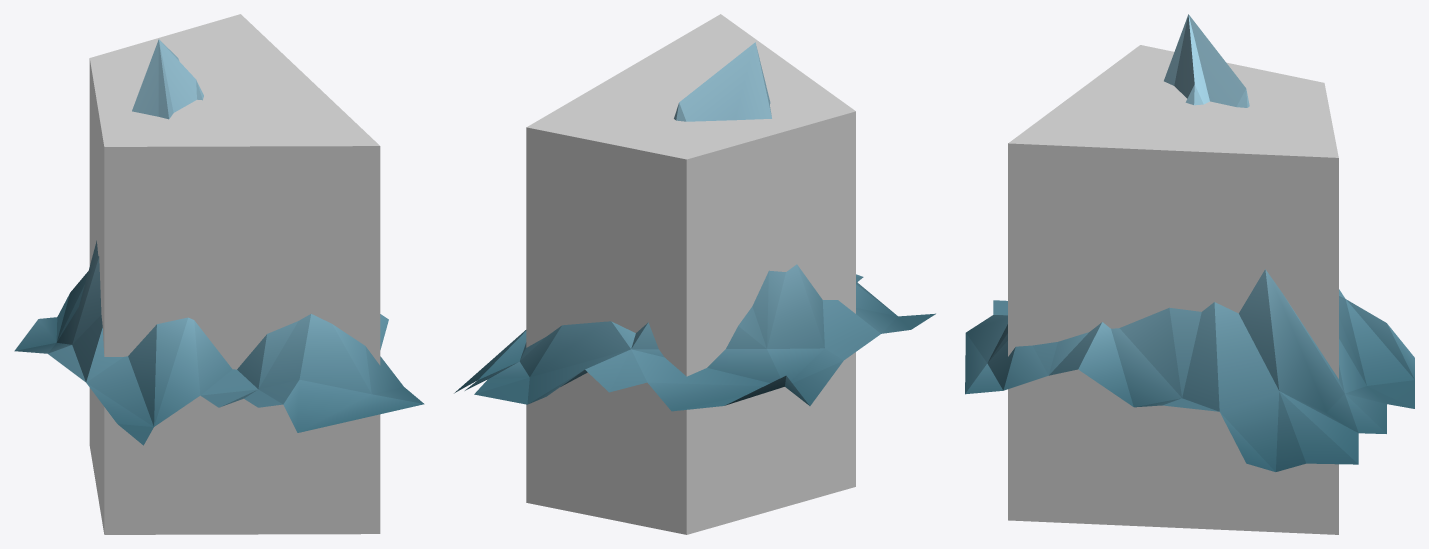
Rendered from island_small_ice_Collection_10.fbx.
The picture shows the model from 3 angles, left to right: view 1: azimuth 30°, elevation 25°; view 2: azimuth 150°, elevation 25°; view 3: azimuth 270°, elevation 25°; orthographic projection. The views are drawn at different scales.
Parts seen in each view (by area): view 1: islandRock_10_col, islandRock_10; view 2: islandRock_10_col, islandRock_10; view 3: islandRock_10_col, islandRock_10.
Part boxes in pixels (box(x1,y1,x2,y2)): islandRock_10_col: box(89, 14, 380, 534); islandRock_10: box(14, 39, 424, 445); islandRock_10_col: box(526, 14, 855, 534); islandRock_10: box(454, 42, 935, 411); islandRock_10_col: box(1008, 45, 1338, 534); islandRock_10: box(965, 14, 1414, 471).
Size of the model in its own units: 2038 by 2739 by 2508.
